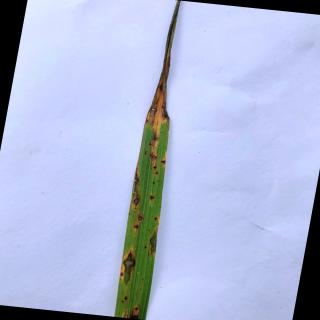Blast: (121, 249, 138, 286), (150, 229, 158, 258), (128, 305, 142, 320), (132, 168, 141, 190), (148, 150, 159, 166), (132, 192, 140, 209), (147, 104, 159, 115), (136, 213, 145, 223), (158, 82, 164, 94), (160, 156, 166, 168), (132, 223, 140, 232), (160, 110, 167, 120), (149, 193, 155, 203), (153, 136, 160, 143), (124, 295, 128, 302), (153, 216, 158, 221), (145, 118, 149, 124)
